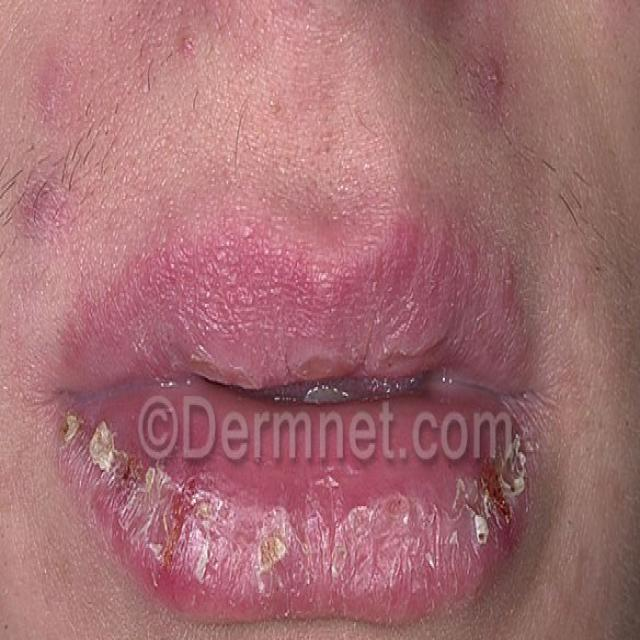Acne: (42, 421, 198, 569), (21, 181, 109, 286), (161, 21, 252, 113), (471, 425, 532, 547), (473, 39, 532, 141), (248, 480, 303, 575), (448, 475, 484, 557)
